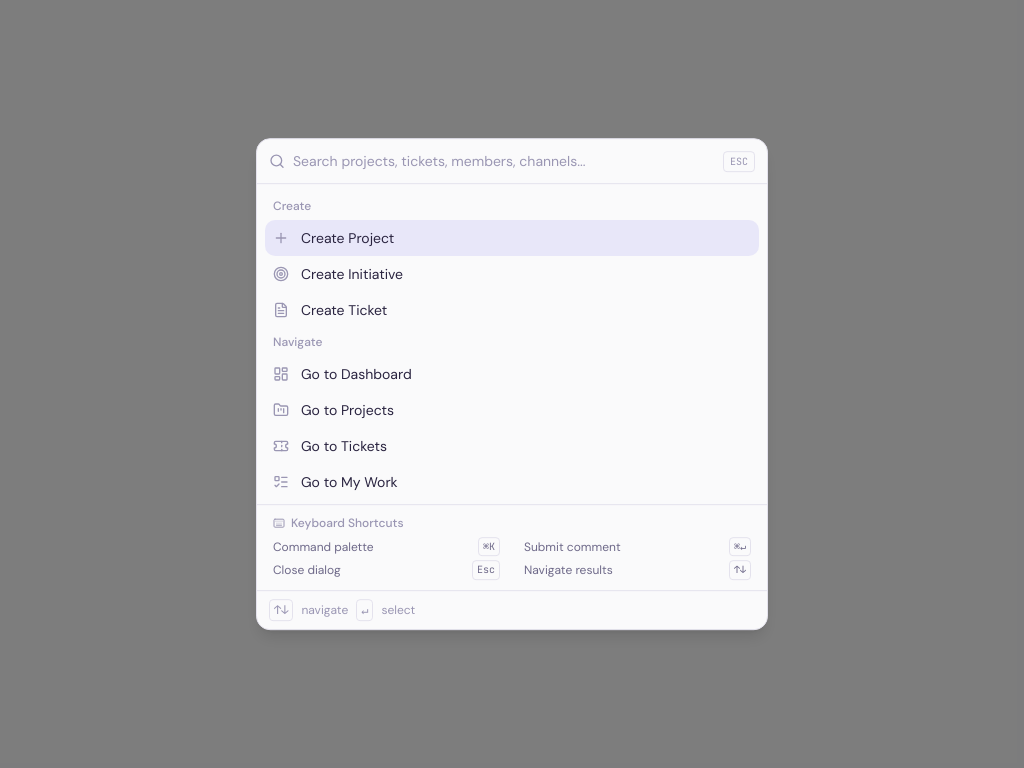
Test: CommandPalette › shows "No results found" for empty search results
The width and height of the screenshot is (1024, 768).
Type "nonexistent" into the dropdown with placeholder "Search projects, tickets, members, channels..." at (504, 161), box left=293, top=139, right=715, bottom=183
Wait 350 ms
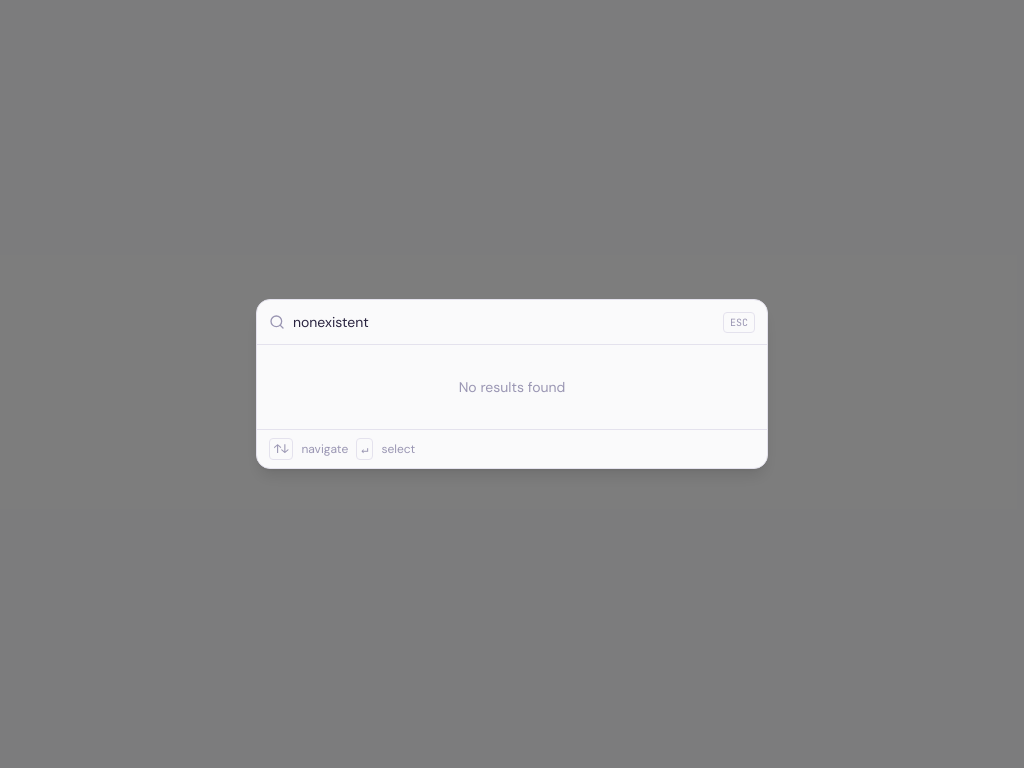
Expected: the text "No results found" is shown, left=459, top=378, right=565, bottom=396
